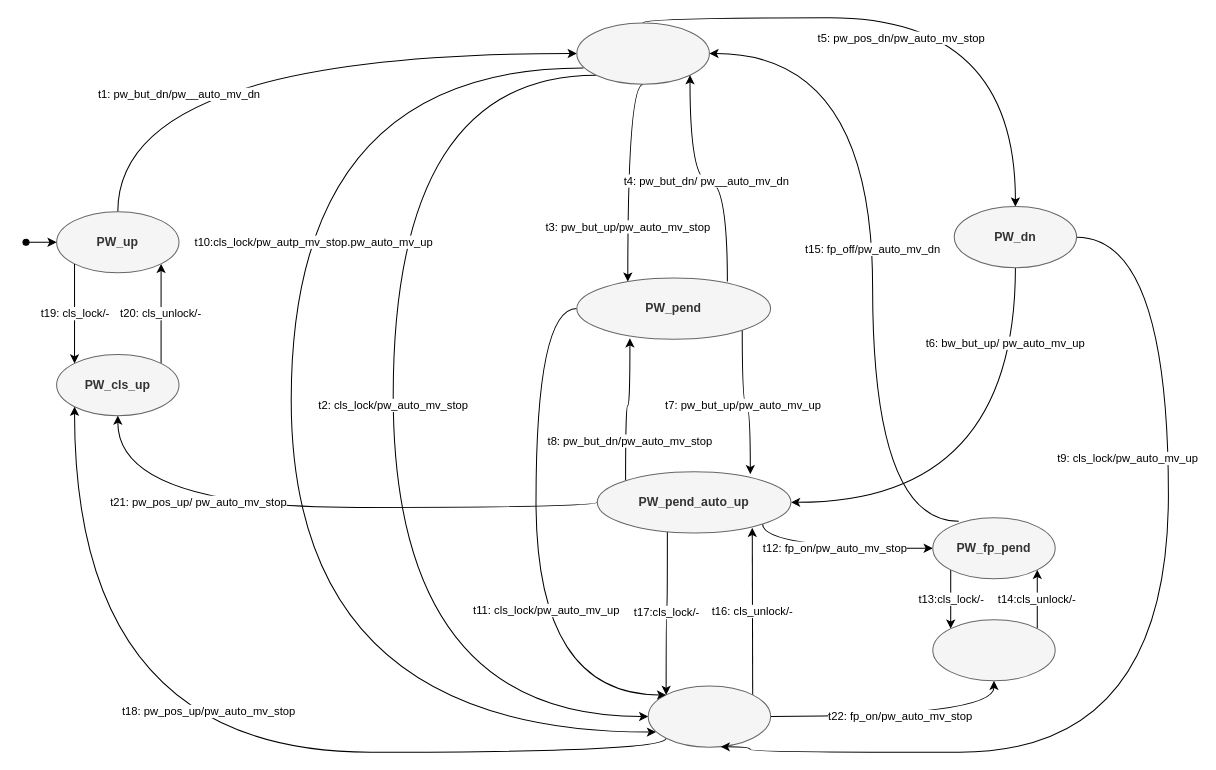
Image size: 1216x770. Some labels were removed from this diagram. The shapes that lost their labels are listed below. From the top down, each one's box as (x1, y1, x2, y2) in pixels, then its label:
(576, 22, 709, 84): PW_pend_auto_dn
(932, 619, 1055, 681): PW_fp_cls_pend
(647, 685, 771, 747): PW_cls_mv_up
